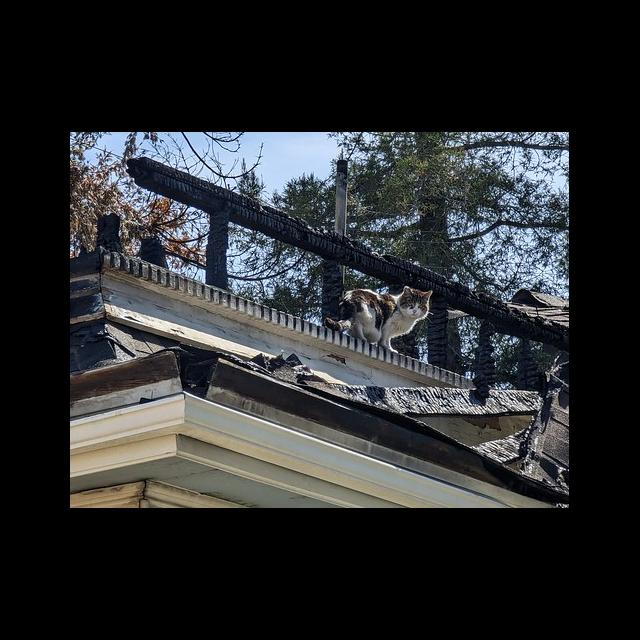animals: (324, 284, 434, 354)
